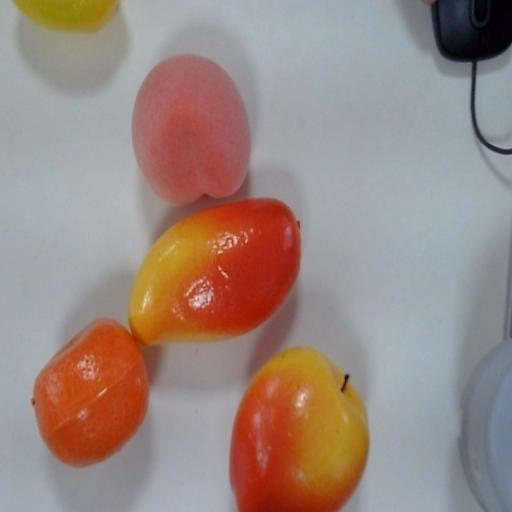Ripe: (126, 194, 304, 351), (225, 342, 371, 512), (128, 50, 252, 202), (28, 316, 150, 470), (15, 0, 122, 33)
